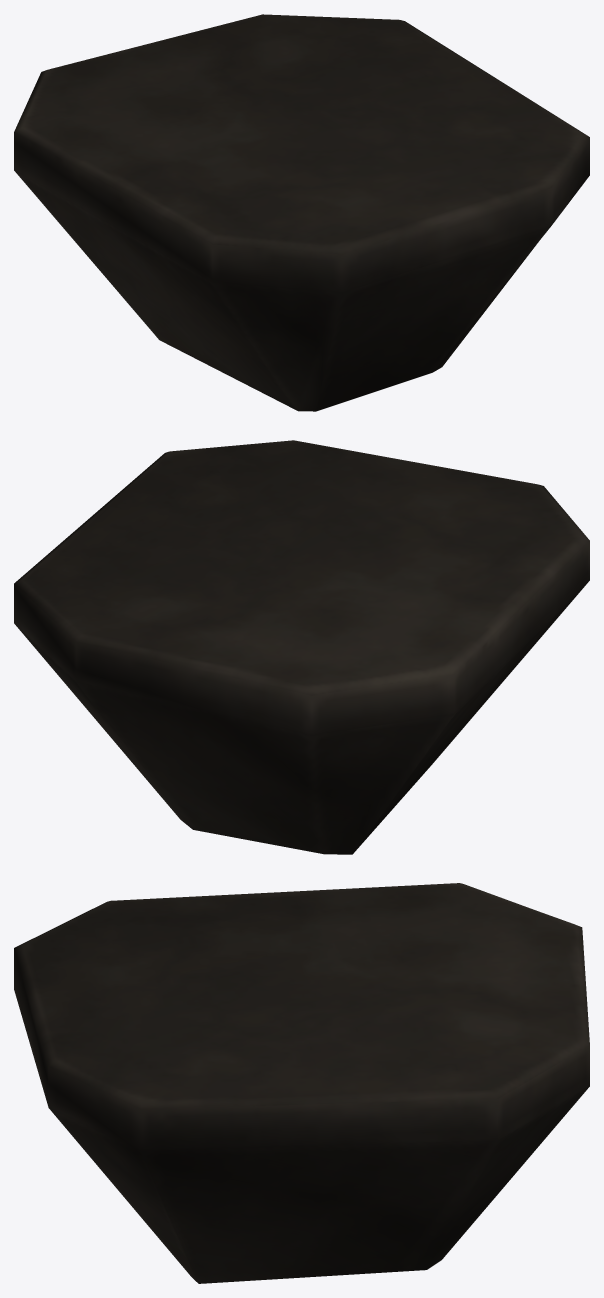
File: StepStone1.FBX
3 renders of one model, top to bottom at view 1: azimuth 30°, elevation 25°; view 2: azimuth 150°, elevation 25°; view 3: azimuth 270°, elevation 25°, orthographic. The views are drawn at different scales.
Visible parts, largest first — view 1: StepStone1; view 2: StepStone1; view 3: StepStone1.
Boxes of the visible parts, bbox=[...] form: StepStone1: bbox=[14, 14, 589, 411]; StepStone1: bbox=[14, 440, 589, 854]; StepStone1: bbox=[14, 883, 589, 1283].
Size of the model in its own units: 3.61 by 1.81 by 3.89.
